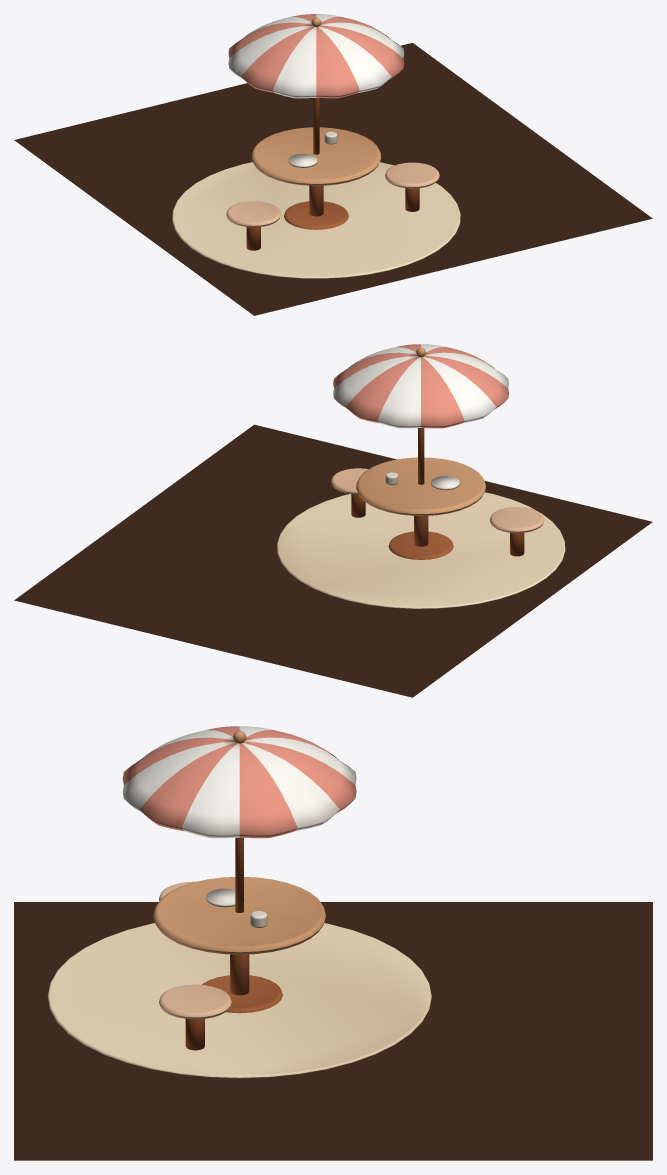
File: prop_table_set.glb
The picture shows the model from 3 angles, top to bottom: view 1: azimuth 30°, elevation 25°; view 2: azimuth 150°, elevation 25°; view 3: azimuth 270°, elevation 25°; orthographic projection. The views are drawn at different scales.
Parts seen in each view (by area): view 1: baked_shadow, rug, canopy, table_top, table_foot, stool0, stool1, table_leg; view 2: baked_shadow, rug, canopy, table_top, table_foot, stool0, stool1; view 3: baked_shadow, rug, canopy, table_top, stool1, table_foot, table_leg, mast.
Boxes of the visible parts, x1=… form: baked_shadow: x1=14, y1=43, x2=652, y2=315; rug: x1=172, y1=162, x2=460, y2=278; canopy: x1=228, y1=14, x2=404, y2=98; table_top: x1=251, y1=127, x2=381, y2=185; table_foot: x1=284, y1=201, x2=348, y2=229; stool0: x1=226, y1=201, x2=280, y2=227; stool1: x1=385, y1=162, x2=439, y2=188; table_leg: x1=309, y1=185, x2=323, y2=216; baked_shadow: x1=14, y1=424, x2=652, y2=697; rug: x1=277, y1=492, x2=565, y2=608; canopy: x1=333, y1=344, x2=508, y2=428; table_top: x1=356, y1=457, x2=485, y2=515; table_foot: x1=388, y1=531, x2=453, y2=559; stool0: x1=490, y1=507, x2=544, y2=532; stool1: x1=331, y1=468, x2=368, y2=494; baked_shadow: x1=14, y1=902, x2=652, y2=1160; rug: x1=47, y1=923, x2=431, y2=1078; canopy: x1=122, y1=726, x2=356, y2=838; table_top: x1=153, y1=877, x2=325, y2=954; stool1: x1=159, y1=984, x2=231, y2=1019; table_foot: x1=202, y1=975, x2=282, y2=1013; table_leg: x1=230, y1=954, x2=249, y2=995; mast: x1=235, y1=837, x2=243, y2=912.
Bounding box in the file's own units: 6.37 × 3.07 × 6.65.
7 materials, 1 textured.
